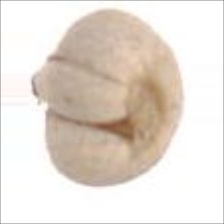L5: (30, 54, 142, 131), (155, 66, 193, 153)
L6: (28, 8, 192, 190)
